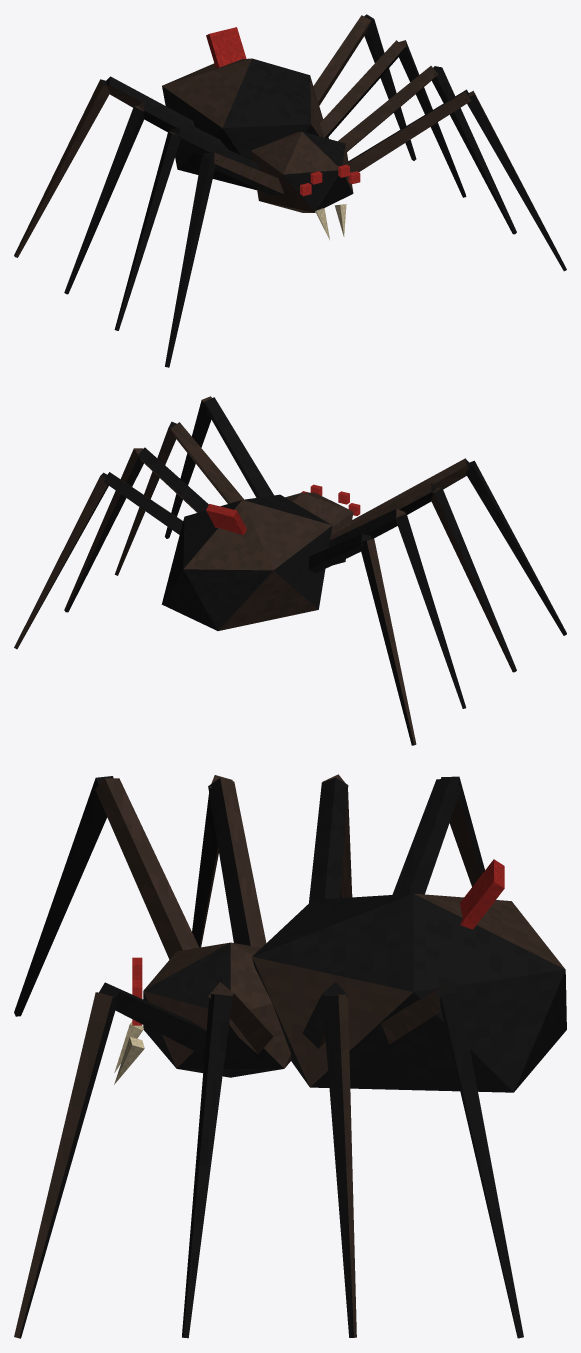
Rendered from enemy_spider.glb.
3 renders of one model, top to bottom at view 1: azimuth 30°, elevation 25°; view 2: azimuth 150°, elevation 25°; view 3: azimuth 270°, elevation 25°, orthographic. The views are drawn at different scales.
Parts seen in each view (by area): view 1: enemy_spider; view 2: enemy_spider; view 3: enemy_spider.
Boxes of the visible parts, x1,y1,x2,y2 form: enemy_spider: (14,14,566,367); enemy_spider: (14,396,566,745); enemy_spider: (14,774,566,1338).
Size of the model in its own units: 2.32 by 1.02 by 1.66.
Materials: 2 (2 with a texture image).
